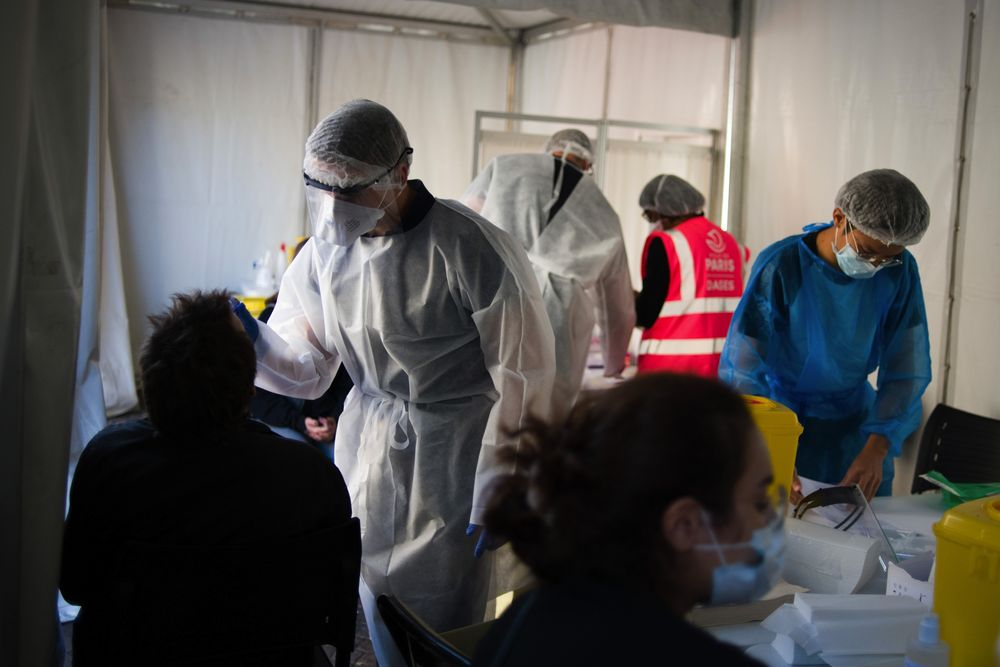Coverall: (307, 202, 553, 667)
Face_Shield: (300, 153, 394, 266)
with_mask: (711, 461, 795, 614), (321, 186, 380, 255), (835, 226, 897, 279)
